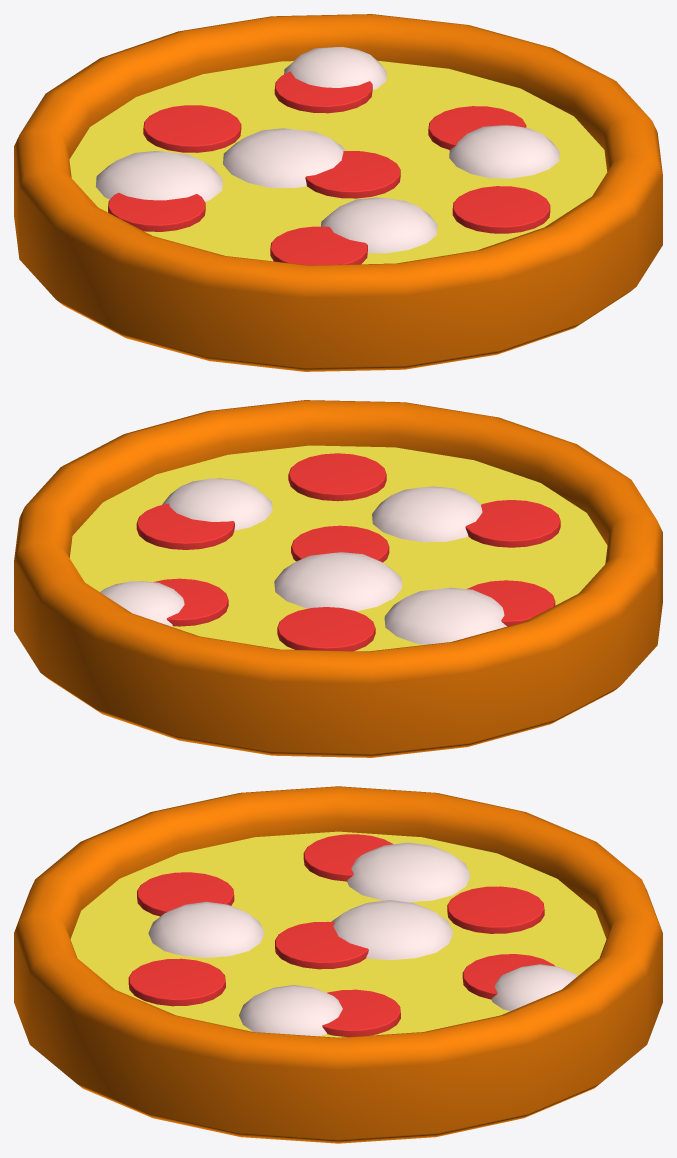
File: Store_1_Pizza_3.glb
The picture shows the model from 3 angles, top to bottom: view 1: azimuth 30°, elevation 25°; view 2: azimuth 150°, elevation 25°; view 3: azimuth 270°, elevation 25°; orthographic projection.
Parts seen in each view (by area): view 1: Store_1_Pizza_3; view 2: Store_1_Pizza_3; view 3: Store_1_Pizza_3.
Part boxes in pixels (x1=…): Store_1_Pizza_3: x1=14, y1=14, x2=662, y2=371; Store_1_Pizza_3: x1=14, y1=400, x2=662, y2=757; Store_1_Pizza_3: x1=14, y1=786, x2=662, y2=1143.
Size of the model in its own units: 0.6405 by 0.1024 by 0.6405.
1 material, 1 textured.
